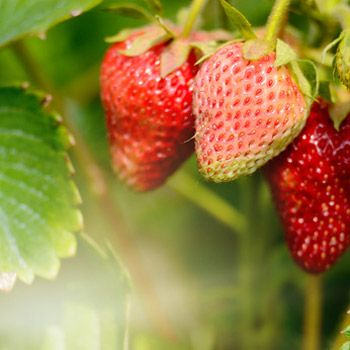ripe: (94, 25, 235, 198), (272, 99, 349, 284)
unripe: (183, 34, 311, 188)
